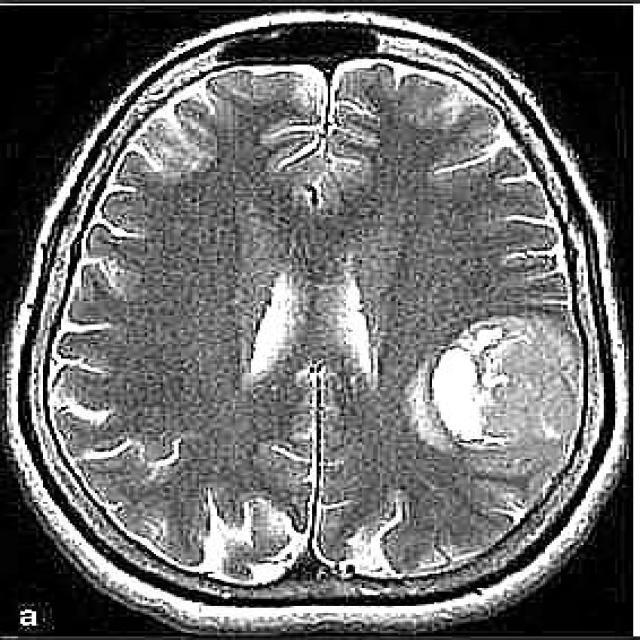Tumor-Cell: (421, 309, 558, 456)
